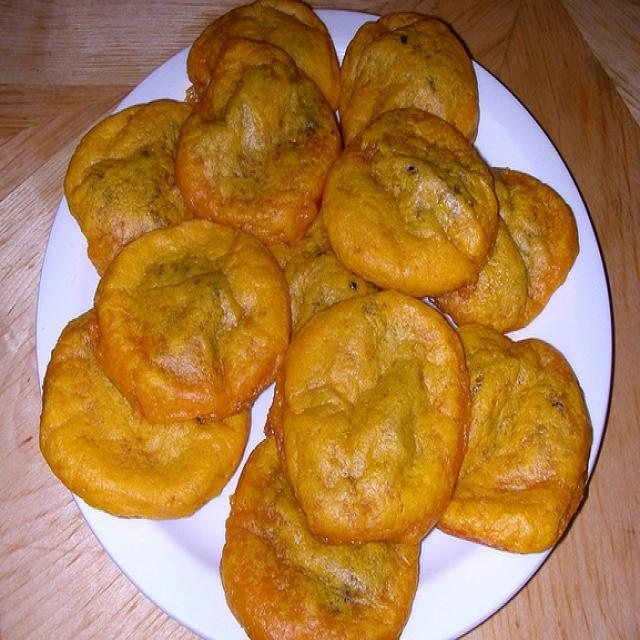炸货点心: (46, 11, 604, 628)
蛋糕甜品: (46, 11, 604, 628)
